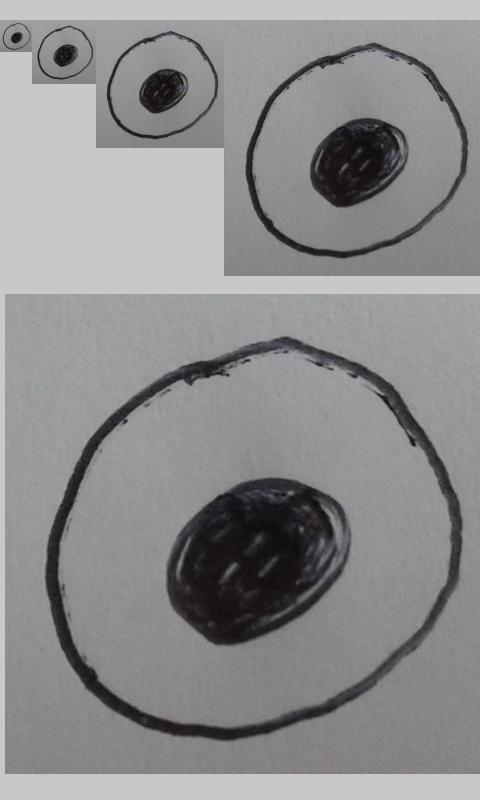radio_button: (45, 337, 465, 742), (245, 43, 468, 259), (106, 30, 218, 139), (37, 25, 93, 80), (2, 22, 32, 51)
